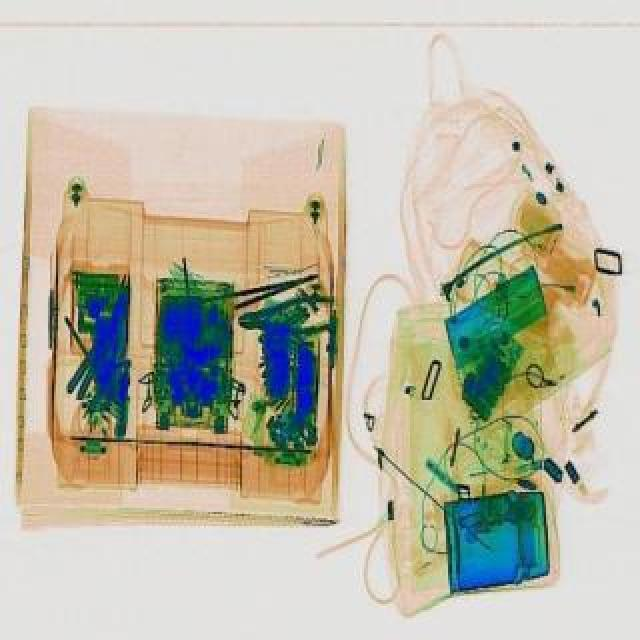wrench: (236, 294, 334, 338)
